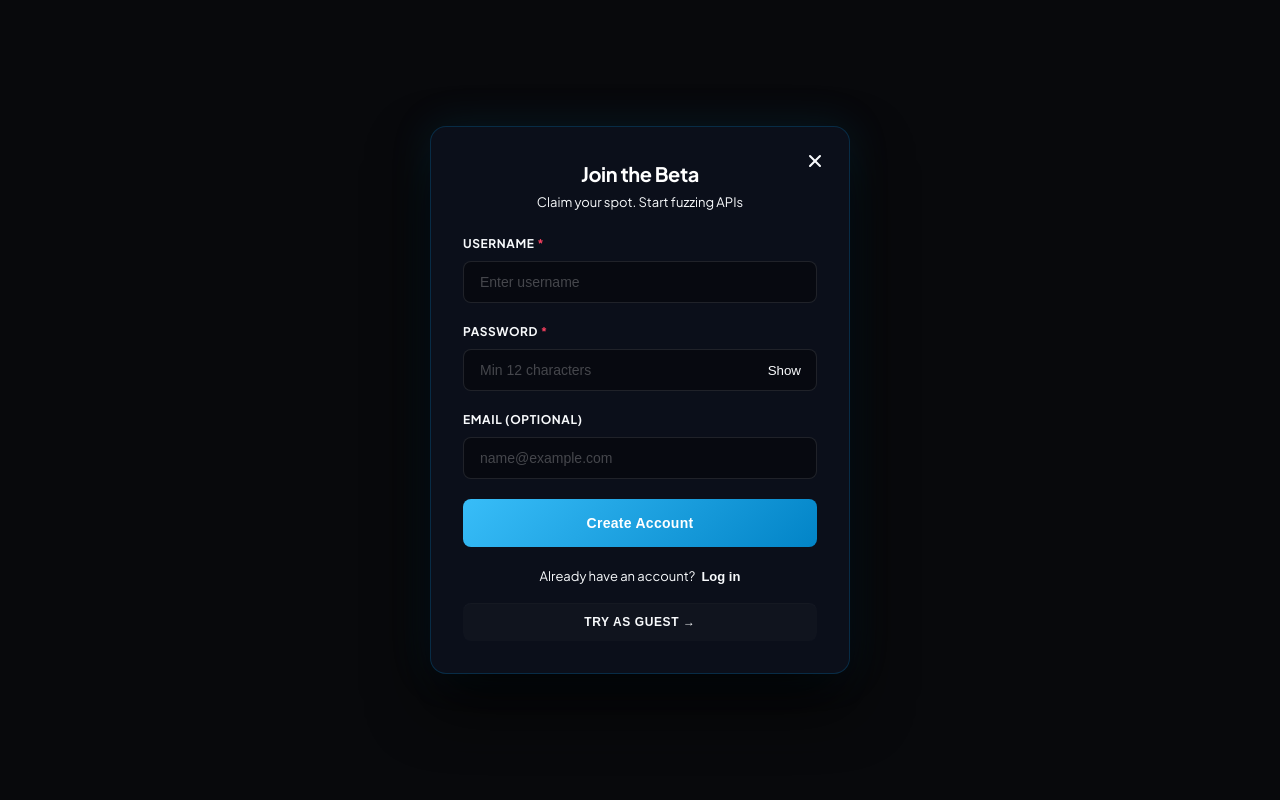
AuthModal Component › shows validation error when username is too short on registration
Type "ab" into the field with placeholder "Enter username" at [640, 282], box [463,261,817,303]
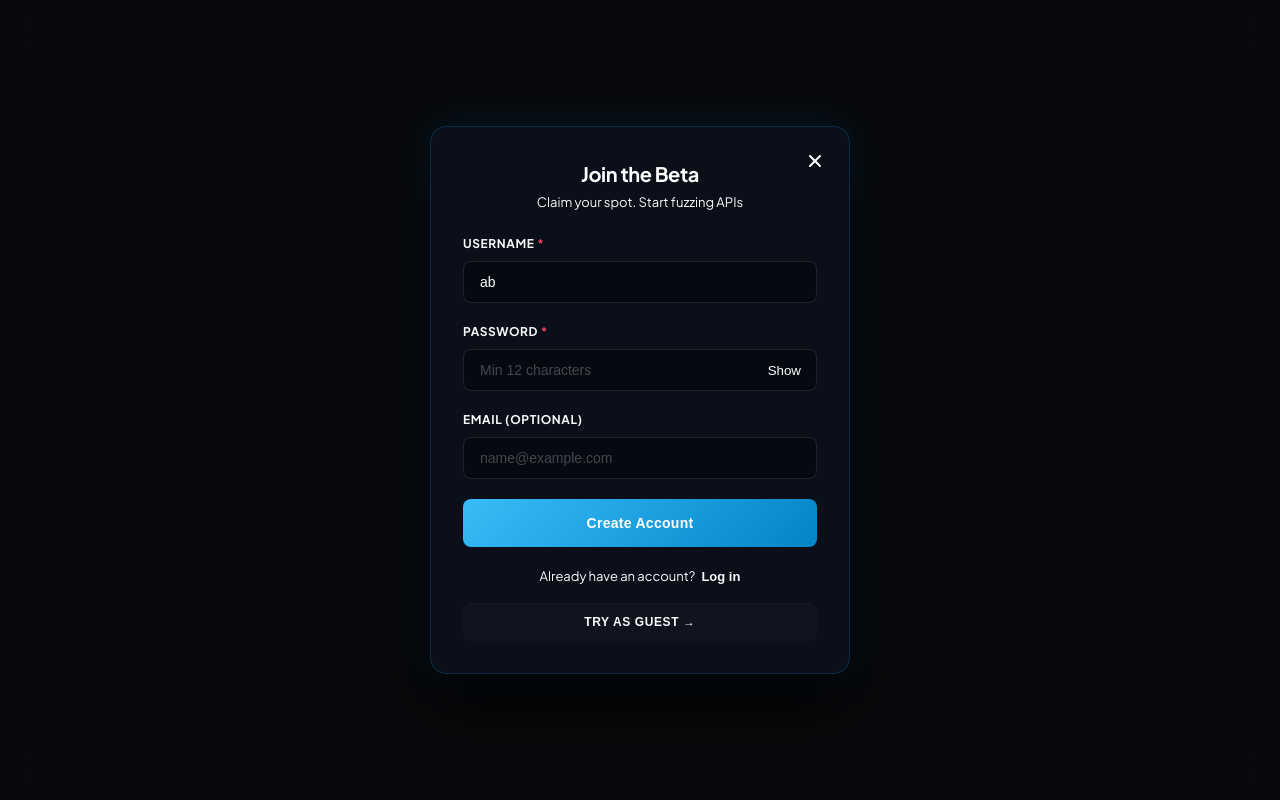
Type "ValidPassword123!" into the password field with placeholder "Min 12 characters" at [640, 370], box [463,349,817,391]
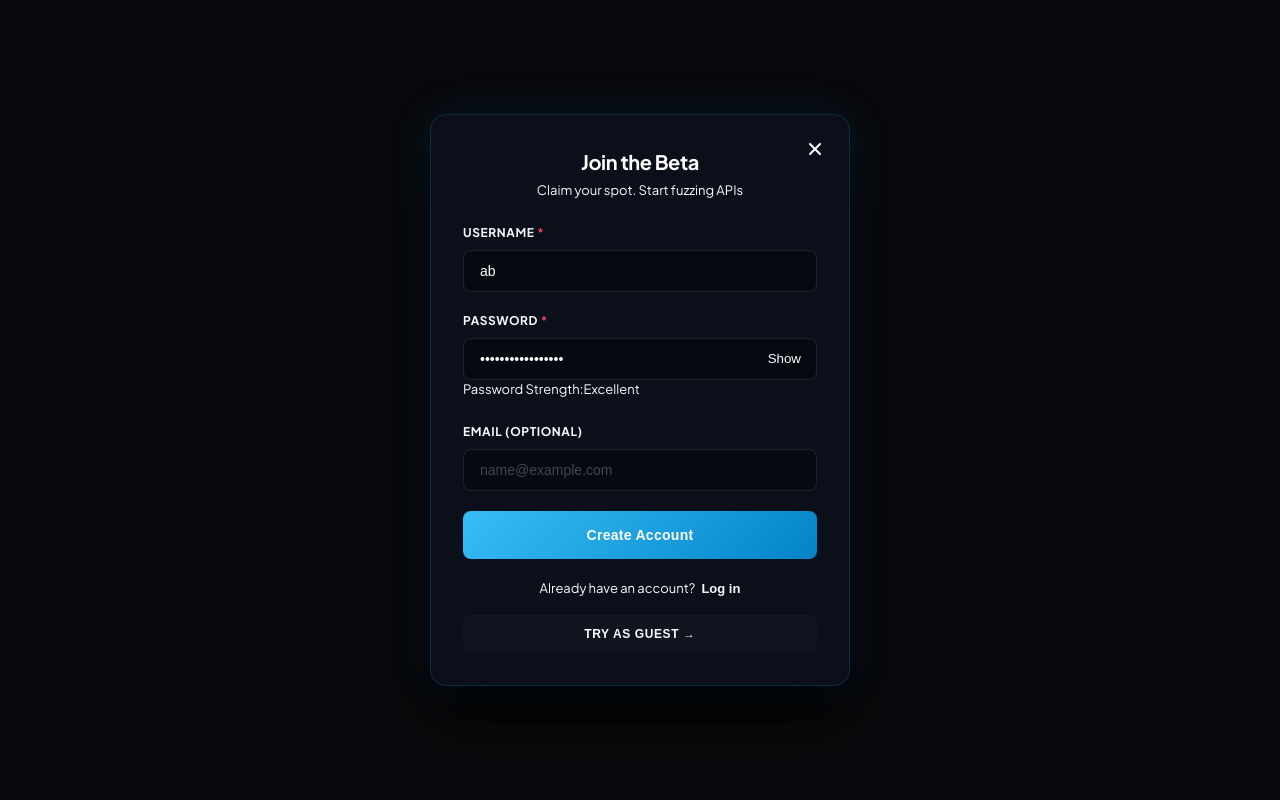
Submit the form named "create account", box [463,224,817,653]
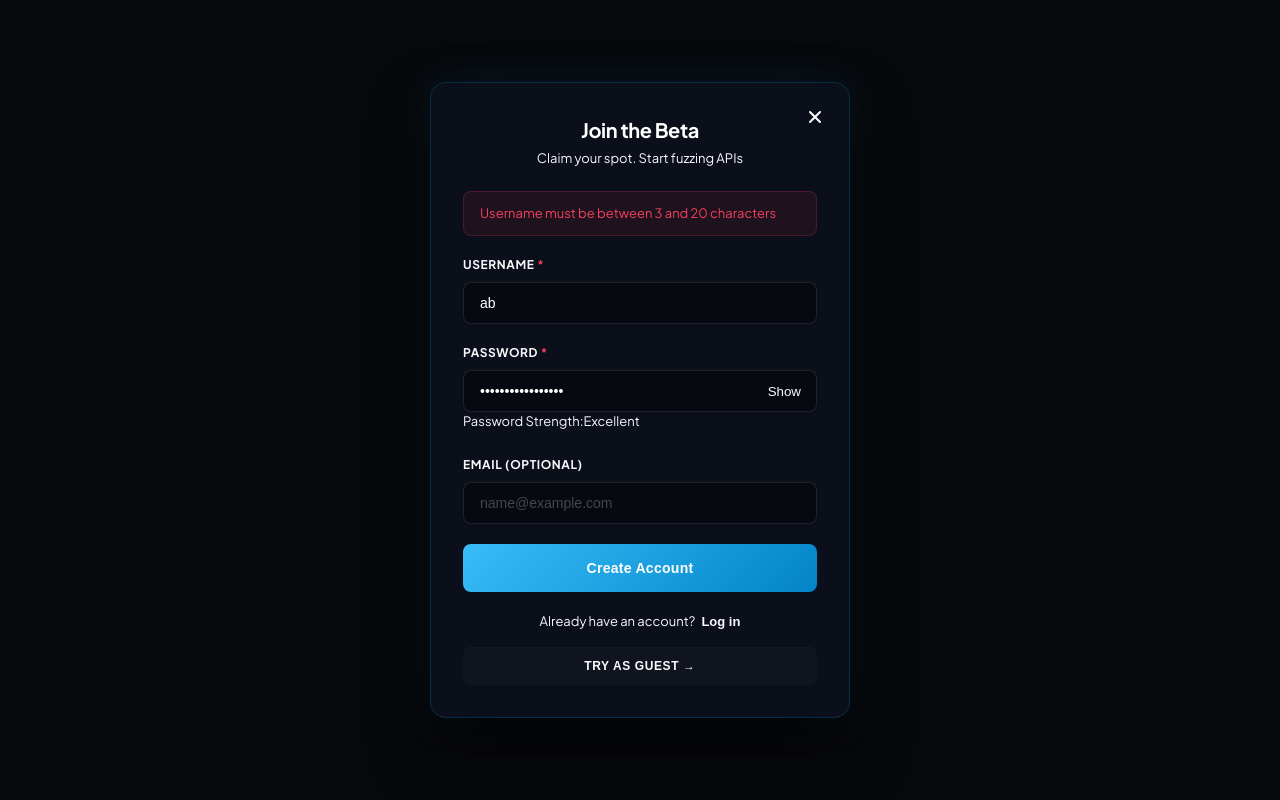
Check: the text "Username must be between 3 and 20 characters" is shown, box [480,205,776,221]
